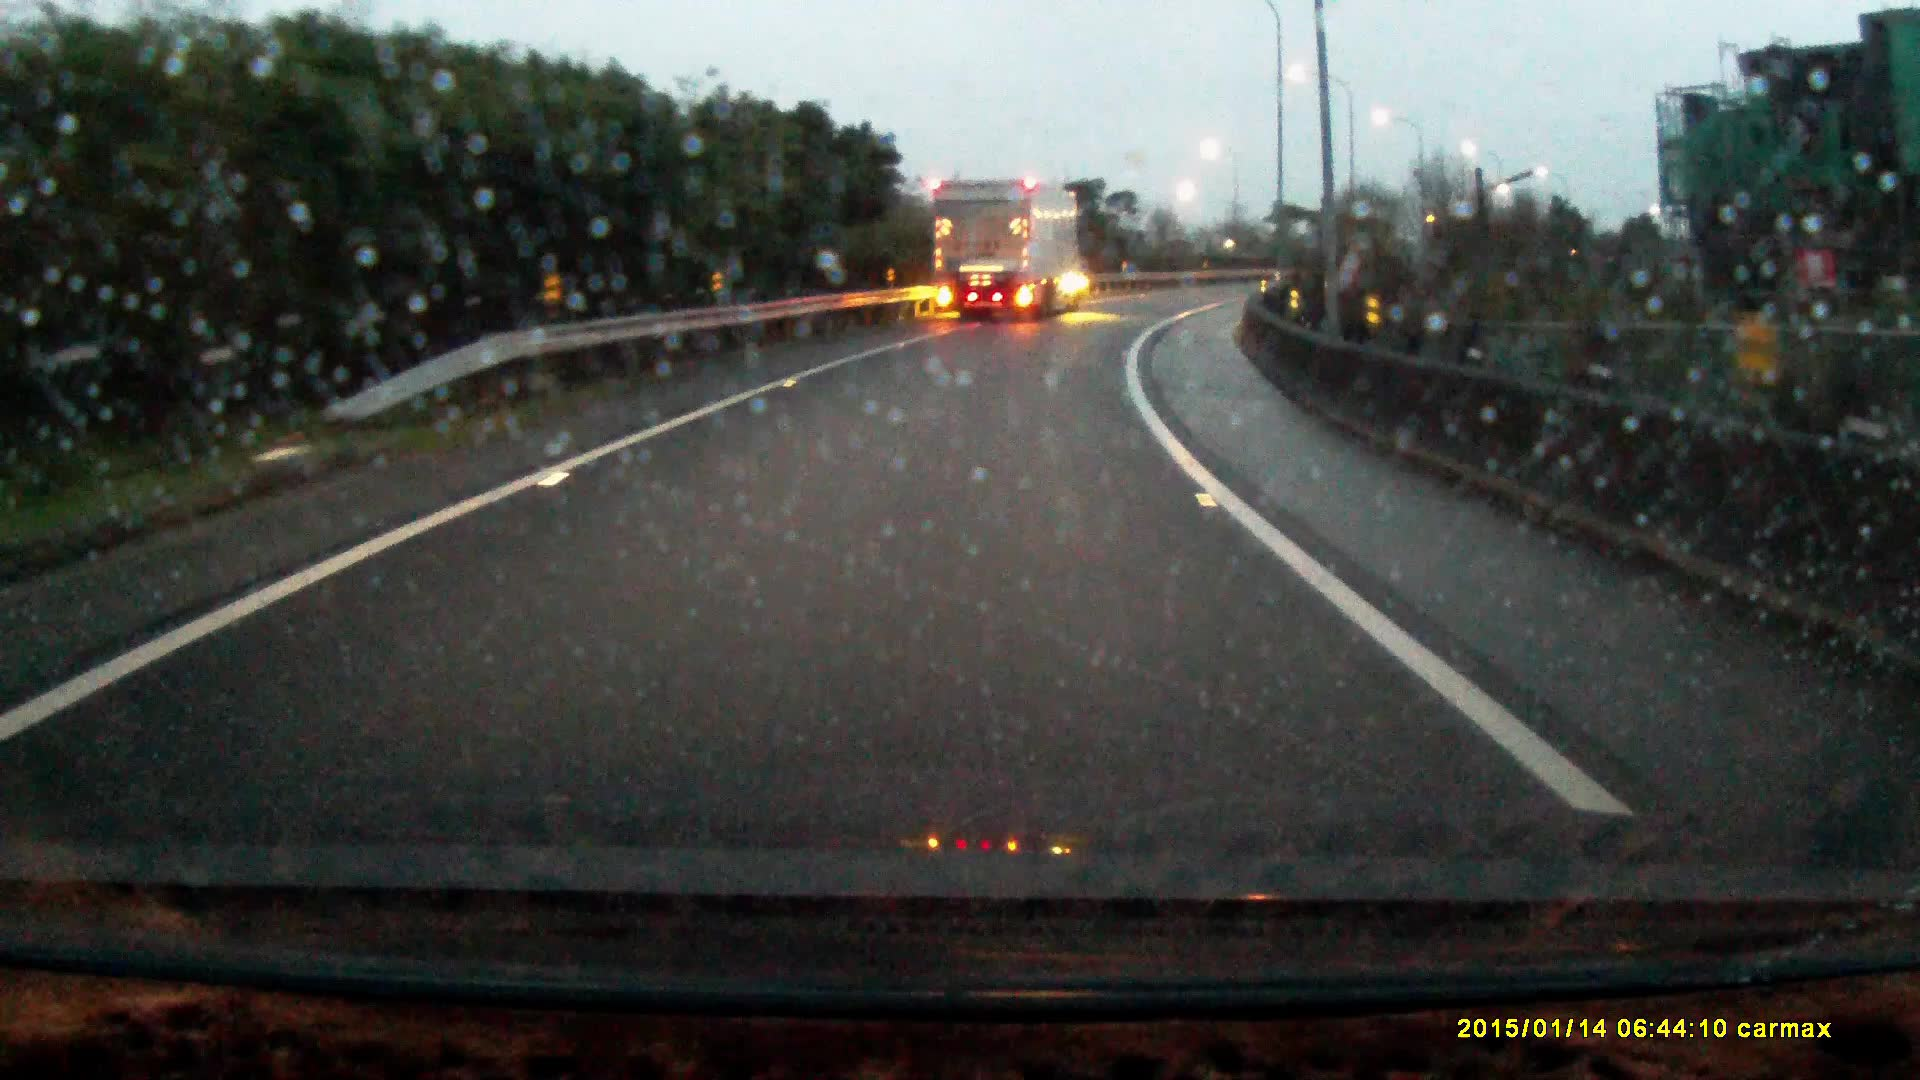vehicle: (927, 178, 1080, 323)
